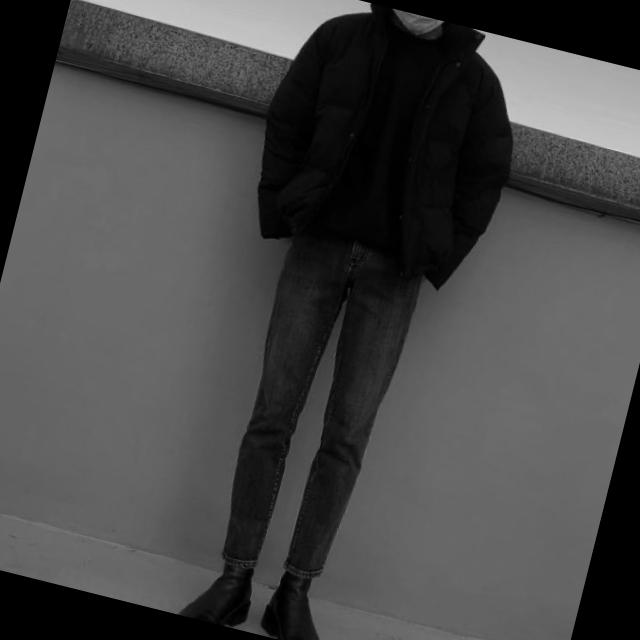denimpants: (209, 225, 427, 598)
padding: (238, 0, 540, 293)
